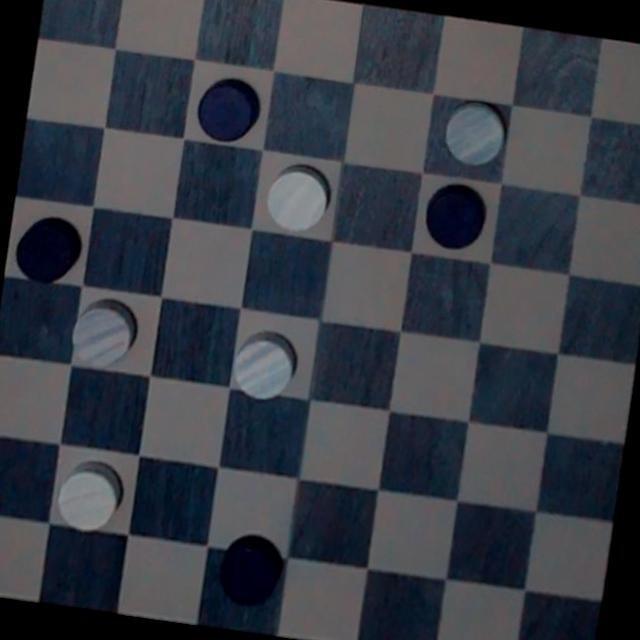BOARD: (0, 0, 640, 640)
black: (414, 176, 502, 270), (4, 204, 90, 296), (210, 526, 290, 614), (186, 70, 266, 148)
white: (431, 94, 518, 175), (228, 324, 309, 409), (67, 292, 146, 379), (263, 154, 338, 238), (55, 454, 124, 536)
